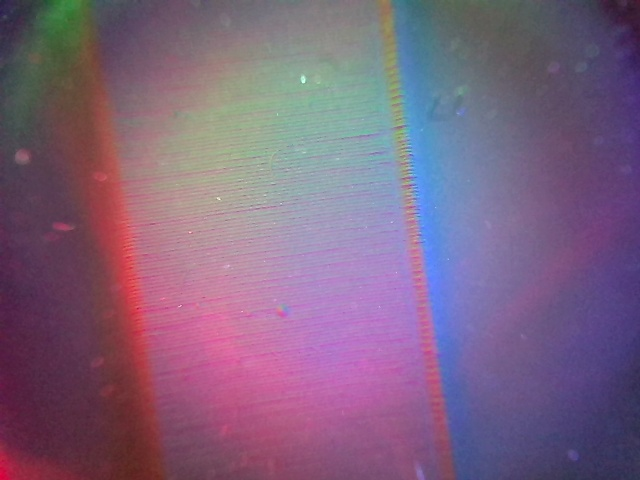contact: (95, 0, 460, 478)
